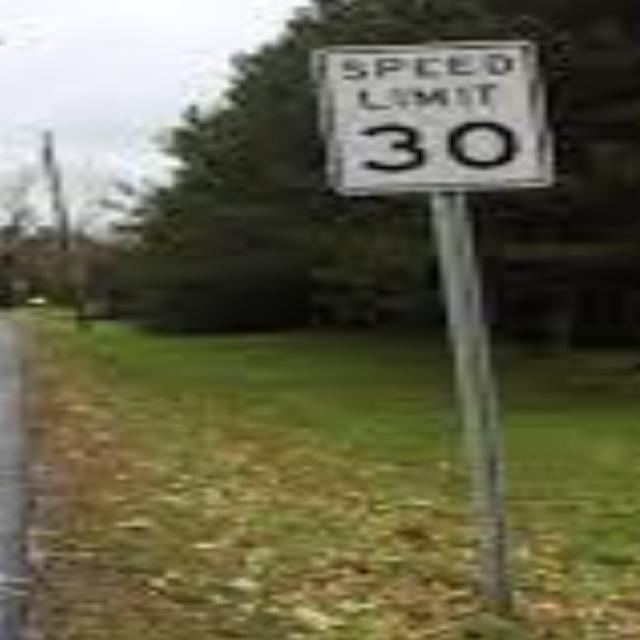speedLimit30: (322, 42, 547, 186)
